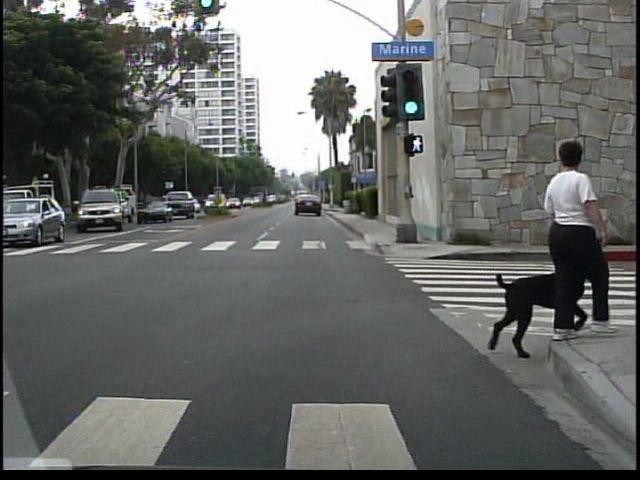person: (538, 140, 615, 339)
